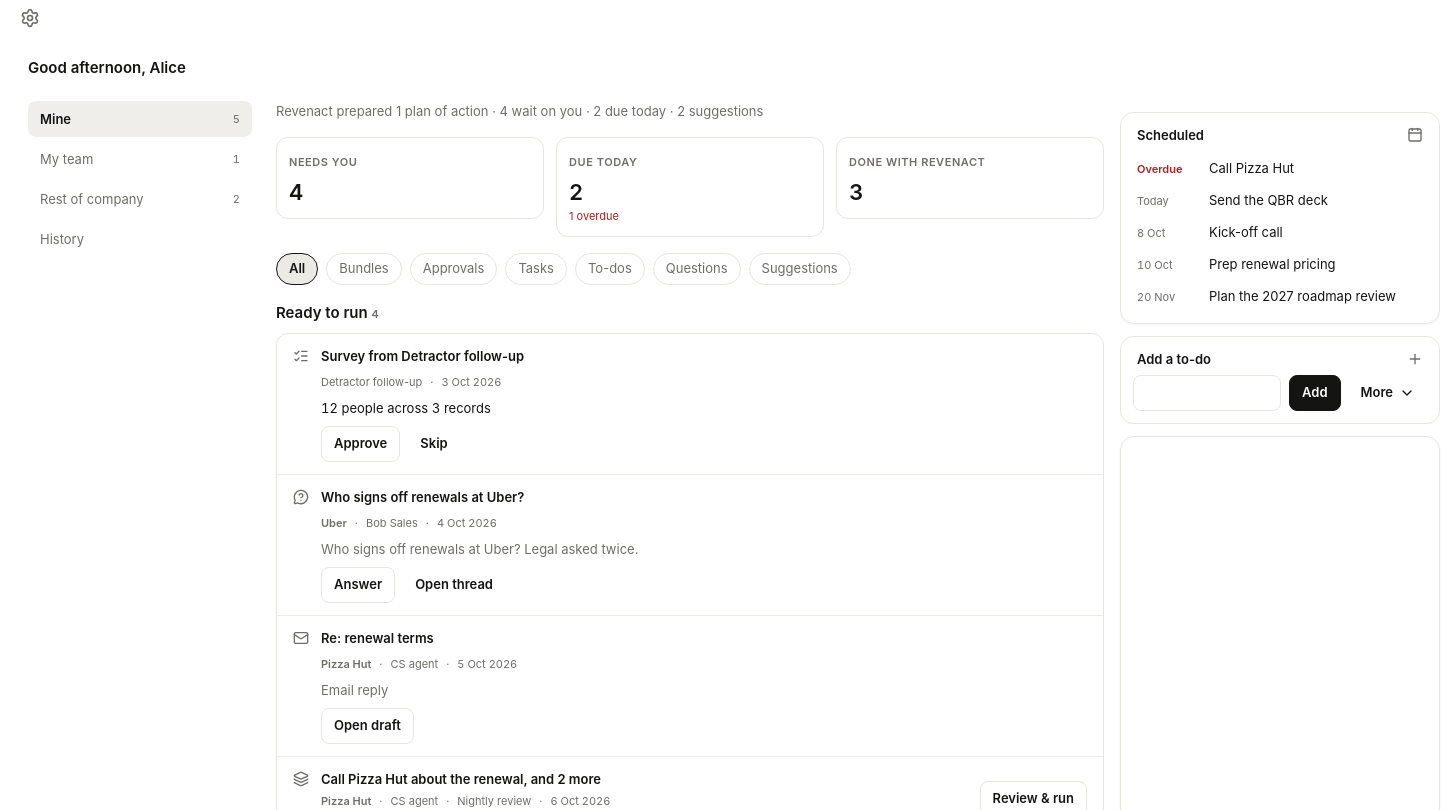
it: Work inbox (spec §8.1) › keeps the kind filter in the URL and drops it when the queue changes
Step 1. Click the button "Bundles" → (364, 269), box top-left (326, 253), bottom-right (402, 285)
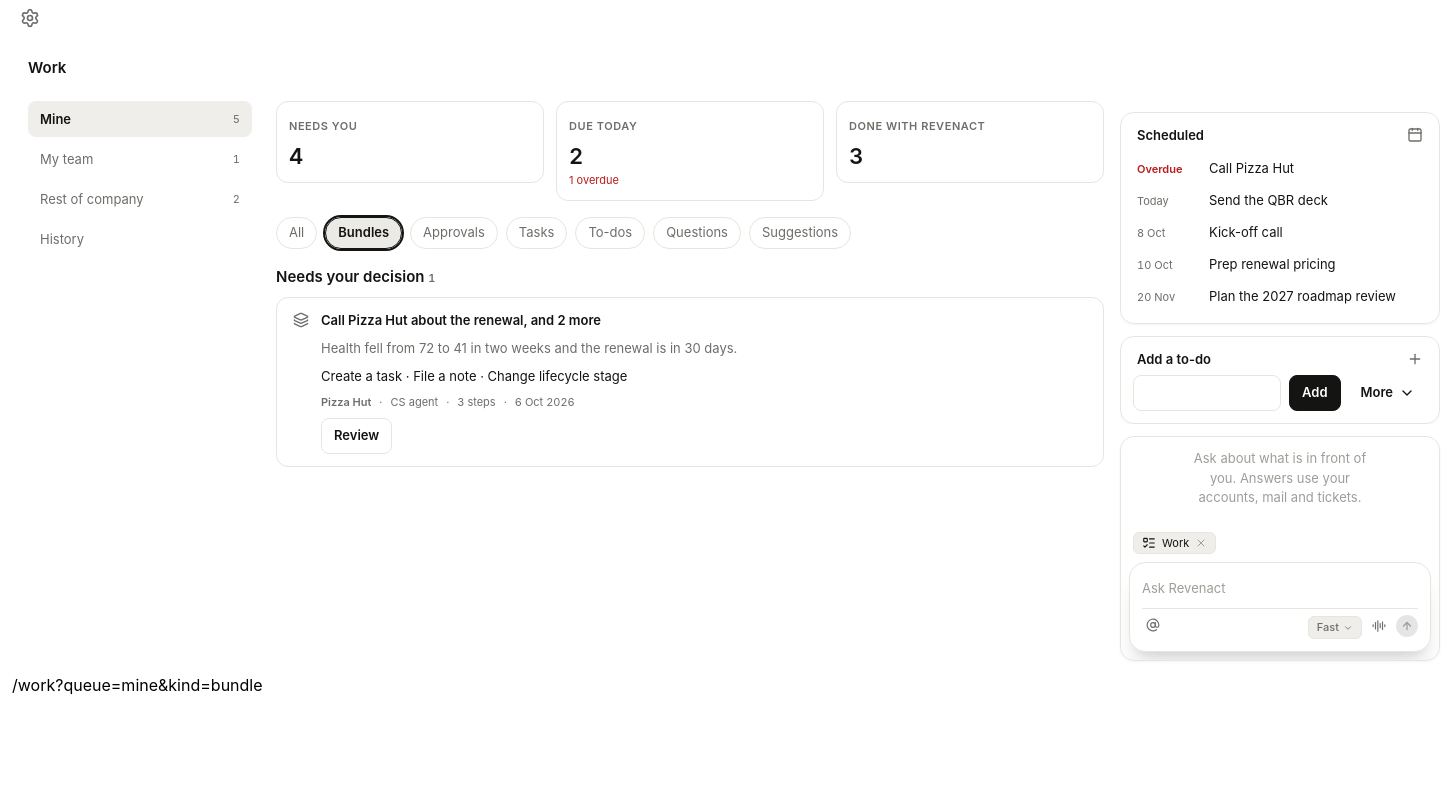
Now the text with test id "where" reads "/work?queue=mine&kind=bundle", box top-left (12, 675), bottom-right (262, 695)
Now the element "Needs your decision 1" is shown, box top-left (276, 265), bottom-right (1104, 467)
Step 2. Click the link "Rest of company 2" → (140, 199), box top-left (40, 191), bottom-right (240, 207)
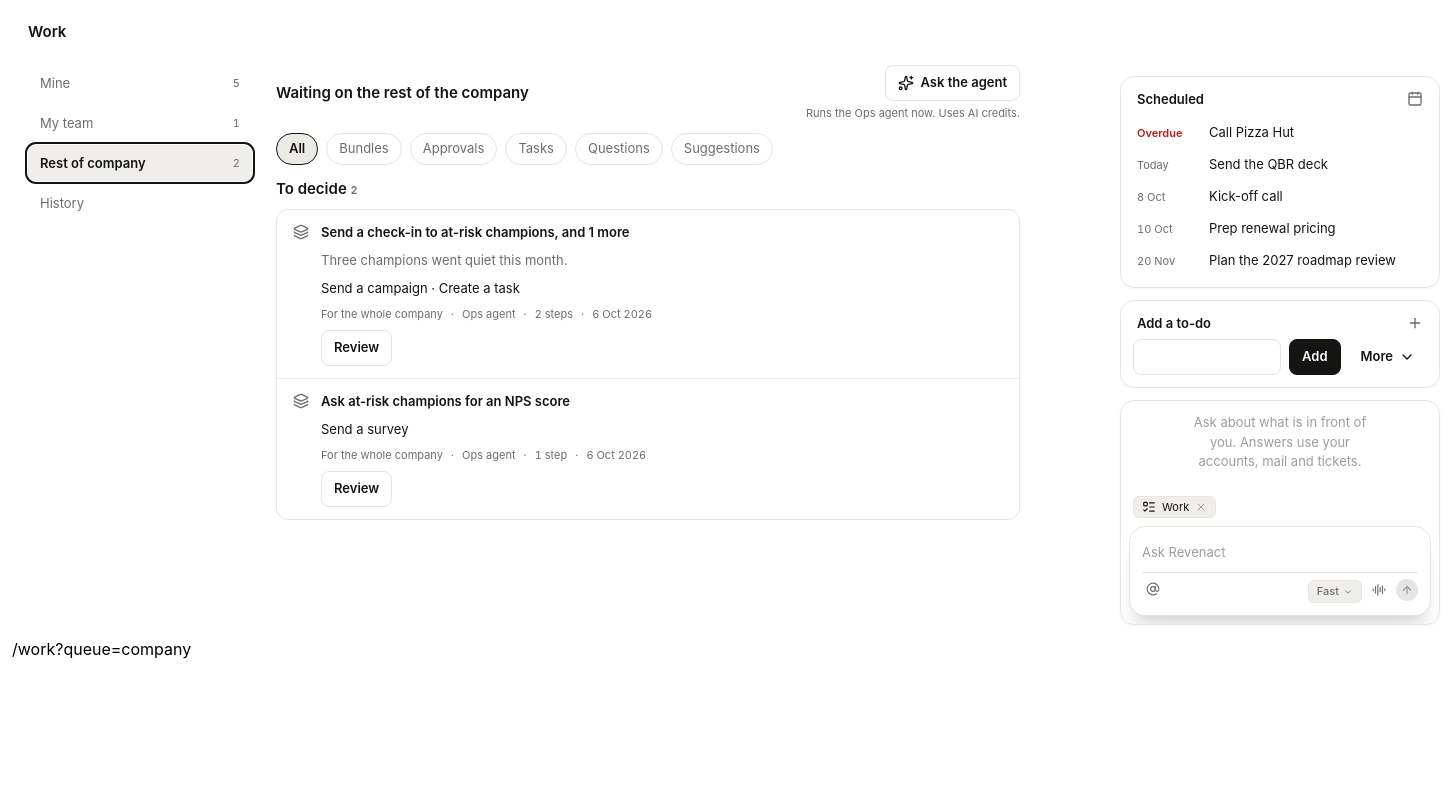
Now the text with test id "where" reads "/work?queue=company", box top-left (12, 639), bottom-right (191, 659)
